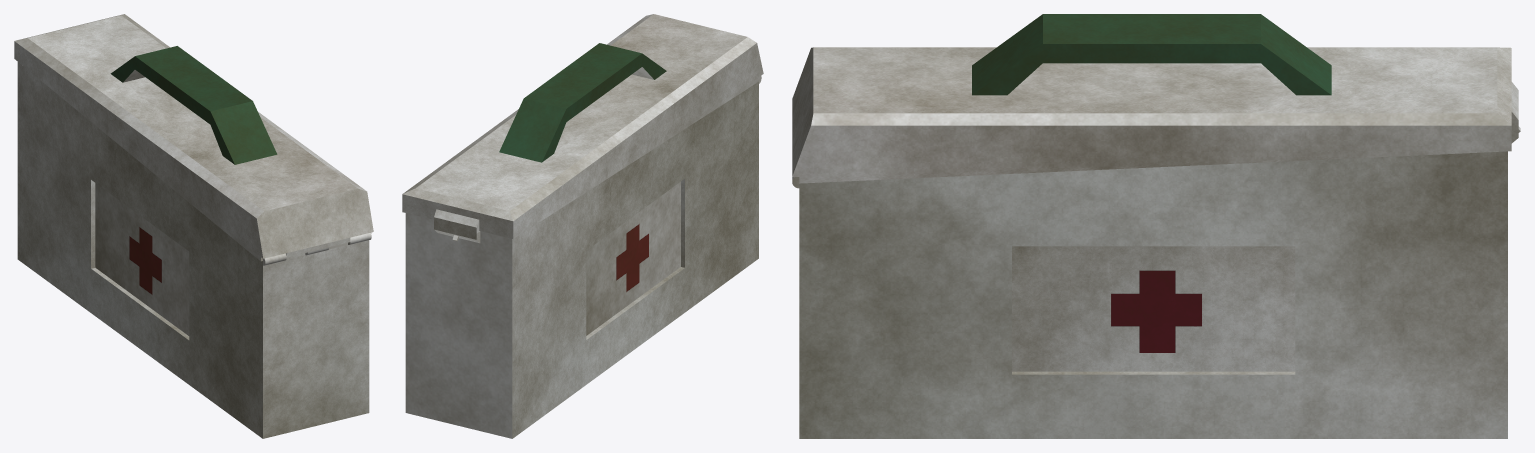
File: medbox.dae
3 renders of one model, left to right at view 1: azimuth 30°, elevation 25°; view 2: azimuth 150°, elevation 25°; view 3: azimuth 270°, elevation 25°, orthographic. The views are drawn at different scales.
Parts seen in each view (by area): view 1: SketchUp.005; view 2: SketchUp.005; view 3: SketchUp.005.
Part boxes in pixels (box(x1,y1,x2,y2)): SketchUp.005: box(14, 14, 373, 438); SketchUp.005: box(402, 14, 763, 438); SketchUp.005: box(792, 14, 1520, 438).
Bounding box in the file's own units: 0.13 × 0.514 × 0.29.
Materials: 1 (1 with a texture image).
